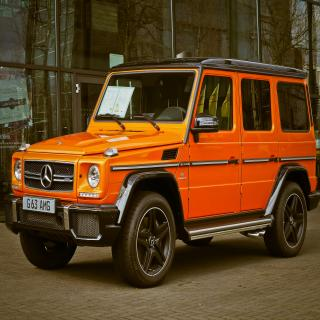Normal_vehicle: (11, 57, 319, 286)
